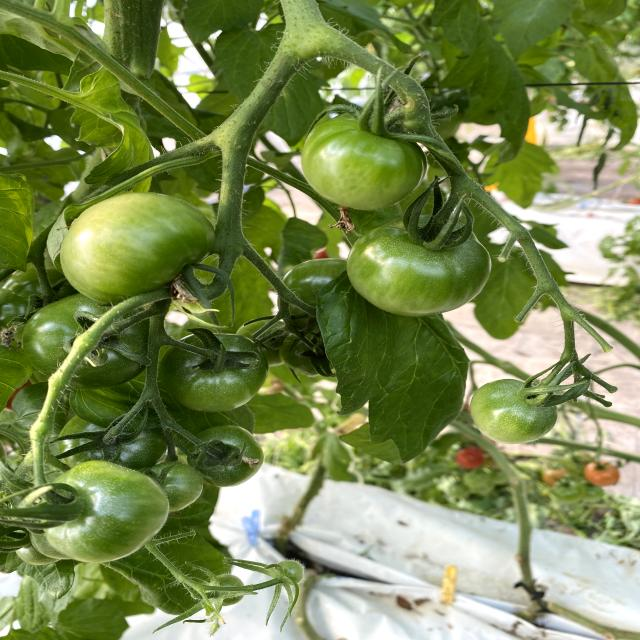ripe0: (349, 227, 492, 317), (48, 459, 169, 564), (303, 113, 426, 211)
